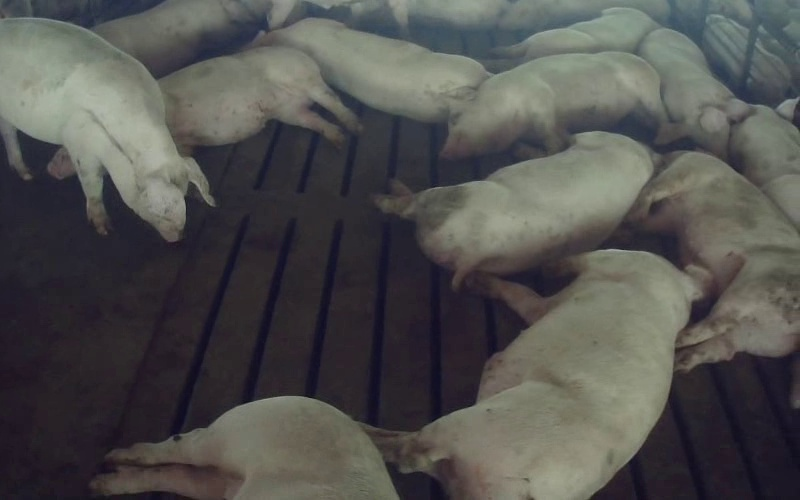pig: (374, 131, 653, 288), (628, 152, 799, 370), (90, 396, 398, 499), (250, 19, 488, 122), (441, 52, 666, 158), (159, 48, 361, 154), (92, 0, 260, 77), (637, 28, 734, 158), (482, 7, 660, 71), (726, 98, 799, 229)
